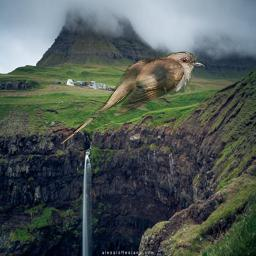Cuckoo: (60, 51, 206, 145)
